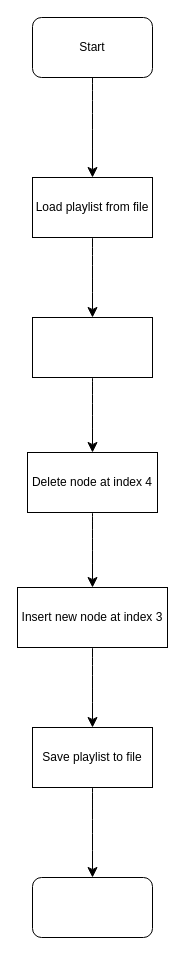
This 185x955 diagram has some shape labels left out. The centre of each missing label's shape, as x and y in pixels:
End: pixel 92 907
Print all tracks: pixel 92 347
